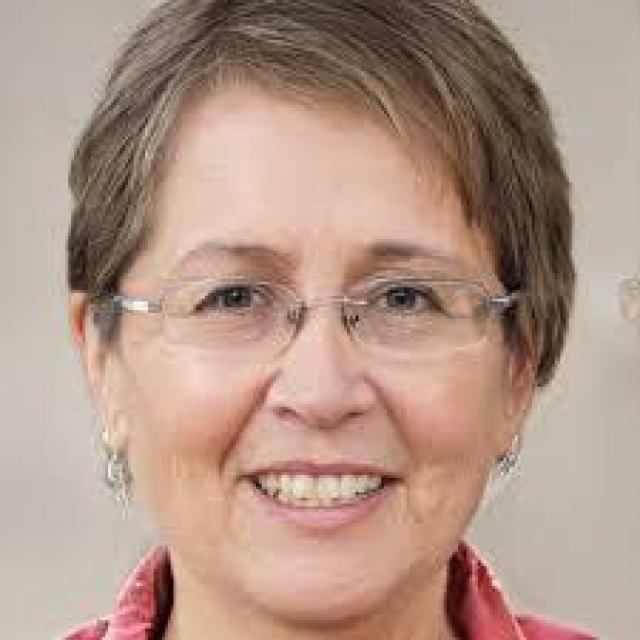person: (54, 0, 595, 637)
